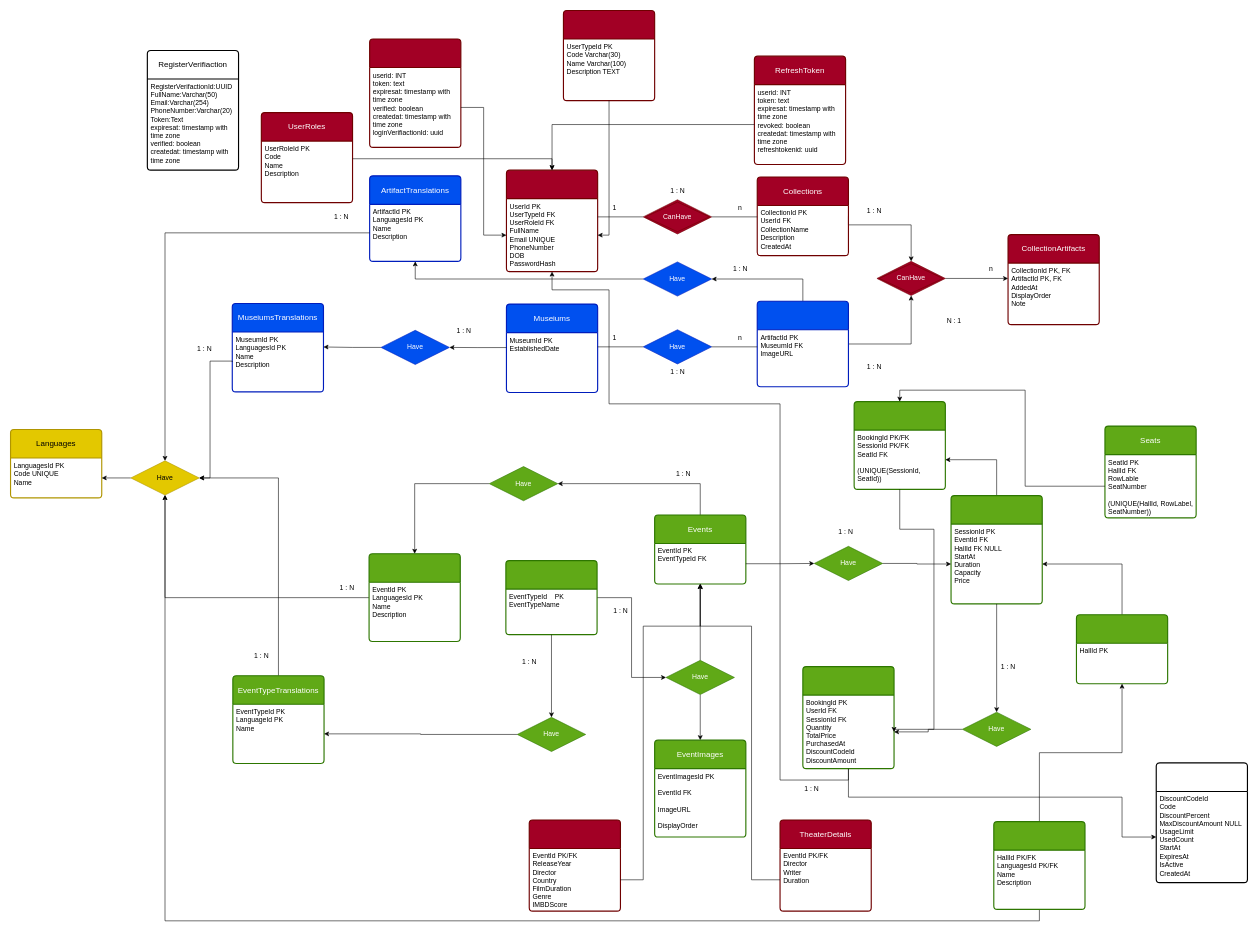
The diagram is 1257 pixels wide and 935 high, and some of its shapes have lost their labels. The box of each missing label's shape, as (x1, y1, x2, y2) in pixels:
Artifacts: (756, 300, 849, 387)
Bookings: (802, 666, 894, 769)
BookingSeats: (853, 401, 946, 490)
CinemaDetails: (528, 819, 621, 911)
DiscountCodes: (1155, 762, 1248, 883)
EventSession: (950, 495, 1043, 604)
EventsTranslations: (368, 553, 461, 642)
EventTypes: (505, 560, 597, 635)
Halls: (1076, 614, 1168, 684)
HallTranslations: (993, 821, 1085, 910)
LoginVerifiactions: (369, 38, 461, 148)
Users: (506, 169, 598, 272)
UserTypes: (563, 10, 655, 101)
